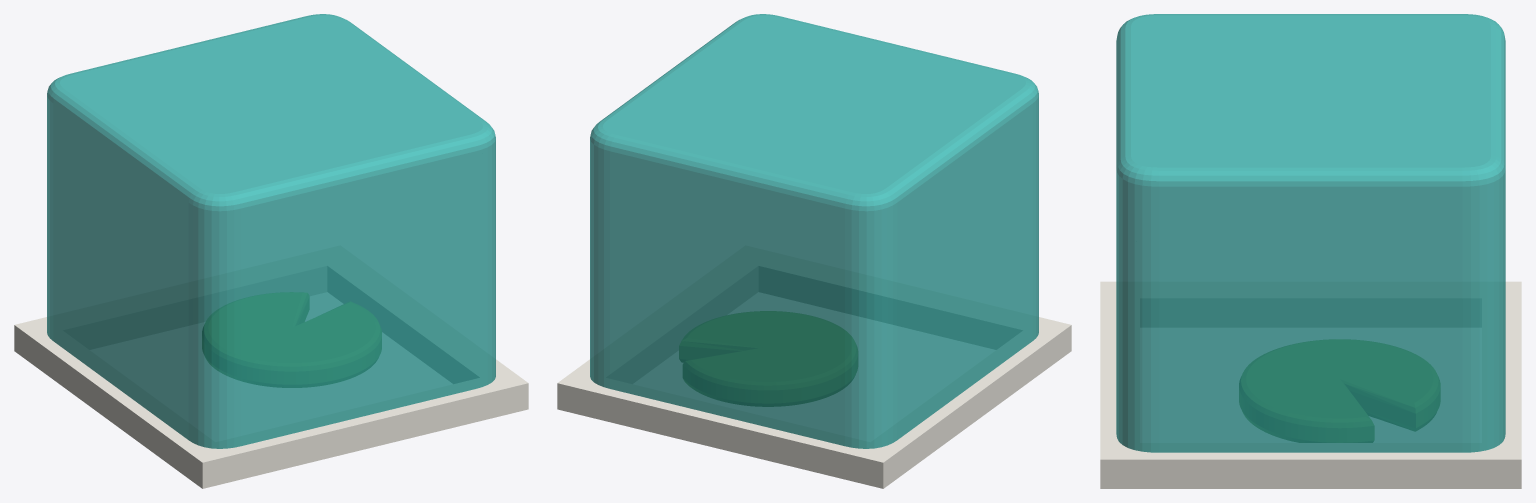
File: teal-water-block.glb
The picture shows the model from 3 angles, left to right: view 1: azimuth 30°, elevation 25°; view 2: azimuth 150°, elevation 25°; view 3: azimuth 270°, elevation 25°; orthographic projection. The views are drawn at different scales.
Visible parts, largest first — view 1: water_block, foam_bar (×4), pad_top; view 2: water_block, foam_bar (×4), pad_top; view 3: water_block, foam_bar (×4), pad_top.
Boxes of the visible parts, x1=… form: water_block: x1=47, y1=14, x2=495, y2=448; foam_bar (×4): x1=14, y1=246, x2=528, y2=488; pad_top: x1=202, y1=292, x2=381, y2=387; water_block: x1=590, y1=14, x2=1038, y2=448; foam_bar (×4): x1=557, y1=247, x2=1071, y2=488; pad_top: x1=679, y1=311, x2=857, y2=406; water_block: x1=1116, y1=14, x2=1505, y2=452; foam_bar (×4): x1=1100, y1=281, x2=1521, y2=488; pad_top: x1=1239, y1=340, x2=1439, y2=442.
Bounding box in the file's own units: 1.17 × 0.98 × 1.17.
